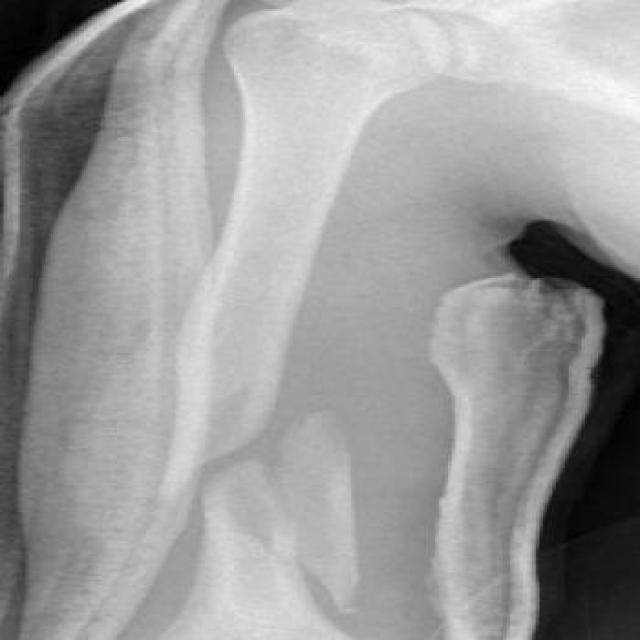Fracture: (150, 399, 350, 498), (245, 527, 375, 616)
